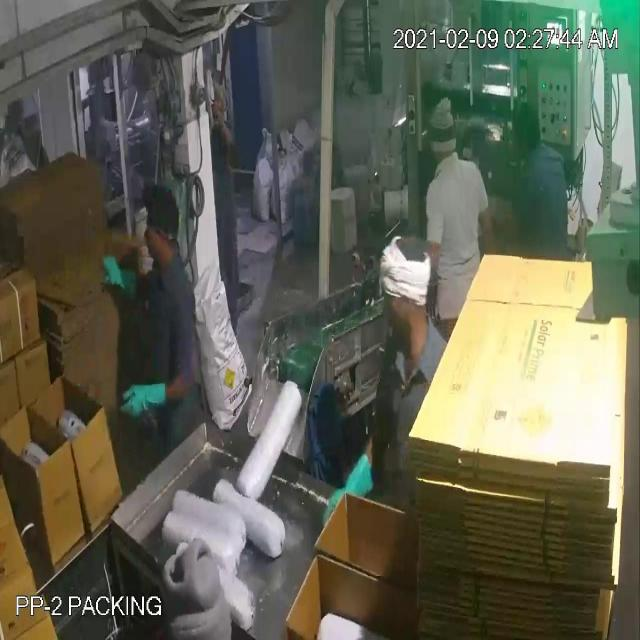Gloves: (17, 50, 348, 494)
